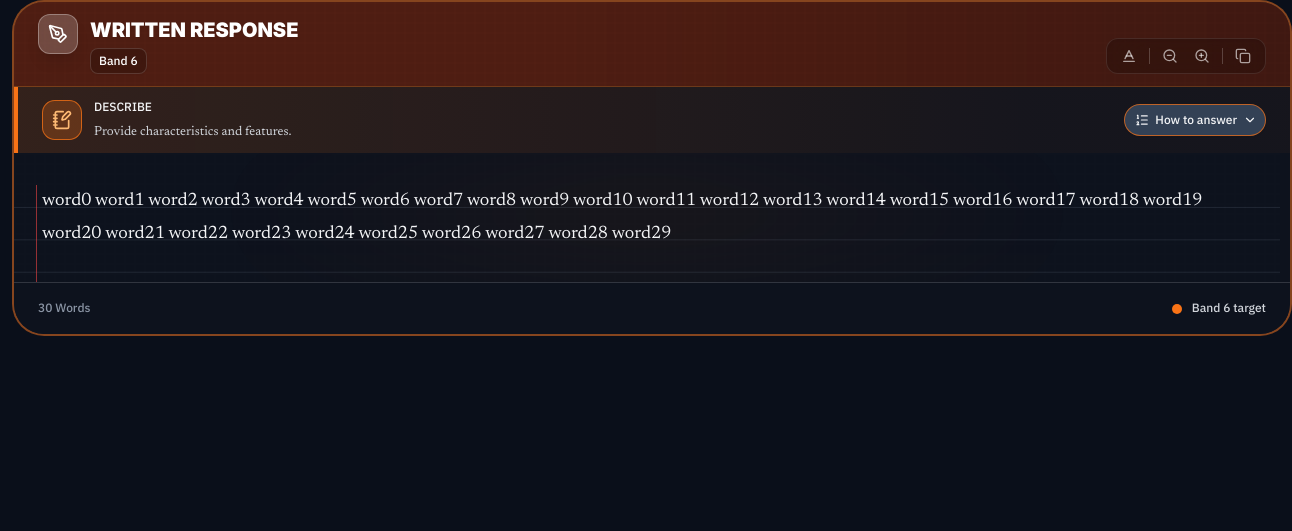
Scenario: the verb brief › the way in to the method › opens the same way mid-draft as on a blank page
Click the button "How to answer" at (1195, 120), box [1124,104,1266,136]
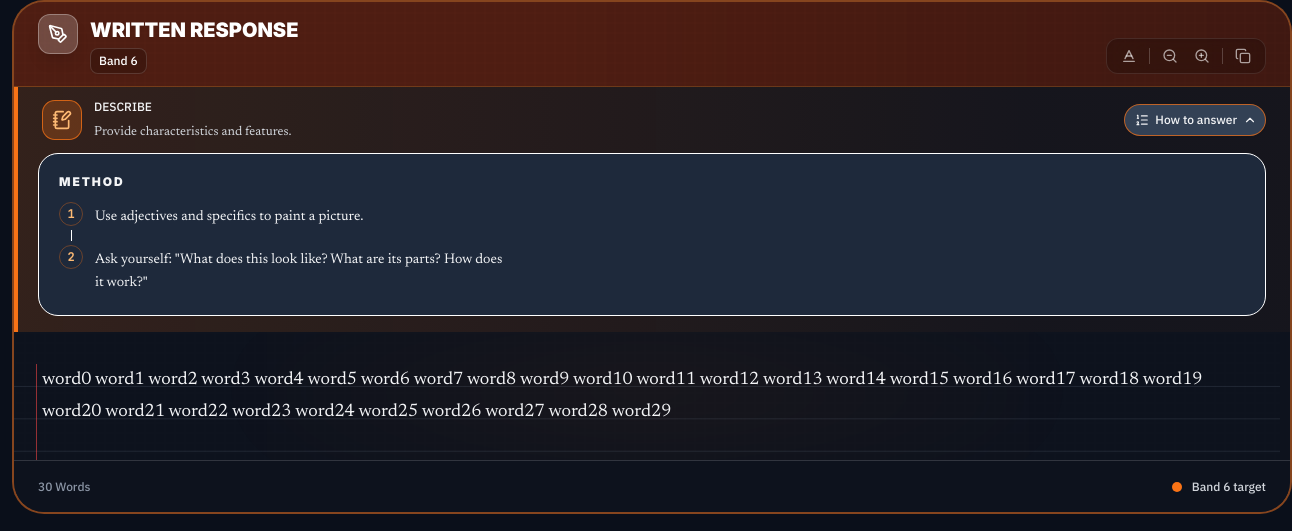
Check: the button "How to answer" is expanded, box [1124,104,1266,136]
Check: the text "Use adjectives and specifics to paint a picture." is shown, box [95,210,364,224]
